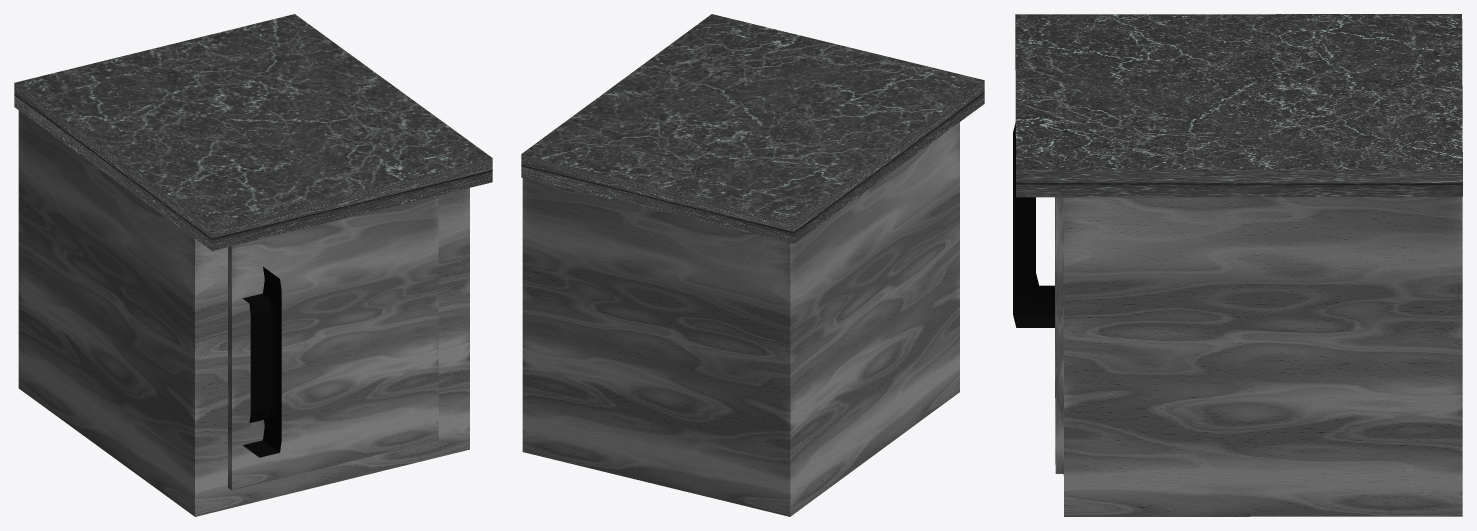
Rendered from INDIVIDUAL_GRAY_KITCHEN_CABINET.glb.
3 renders of one model, left to right at view 1: azimuth 30°, elevation 25°; view 2: azimuth 150°, elevation 25°; view 3: azimuth 270°, elevation 25°, orthographic. The views are drawn at different scales.
Visible parts, largest first — view 1: BODY, BAR, DOOR; view 2: BODY, BAR; view 3: BODY, BAR, DOOR.
Boxes of the visible parts, x1,y1,x2,y2 form: BODY: (18,110,469,516); BAR: (14,14,492,250); DOOR: (228,195,438,490); BODY: (522,122,959,516); BAR: (521,14,984,243); BODY: (1063,197,1462,516); BAR: (1015,14,1462,197); DOOR: (1013,122,1063,473).
Bounding box in the file's own units: 0.7944 × 0.8271 × 0.9691.
Materials: 4 (3 with a texture image).
